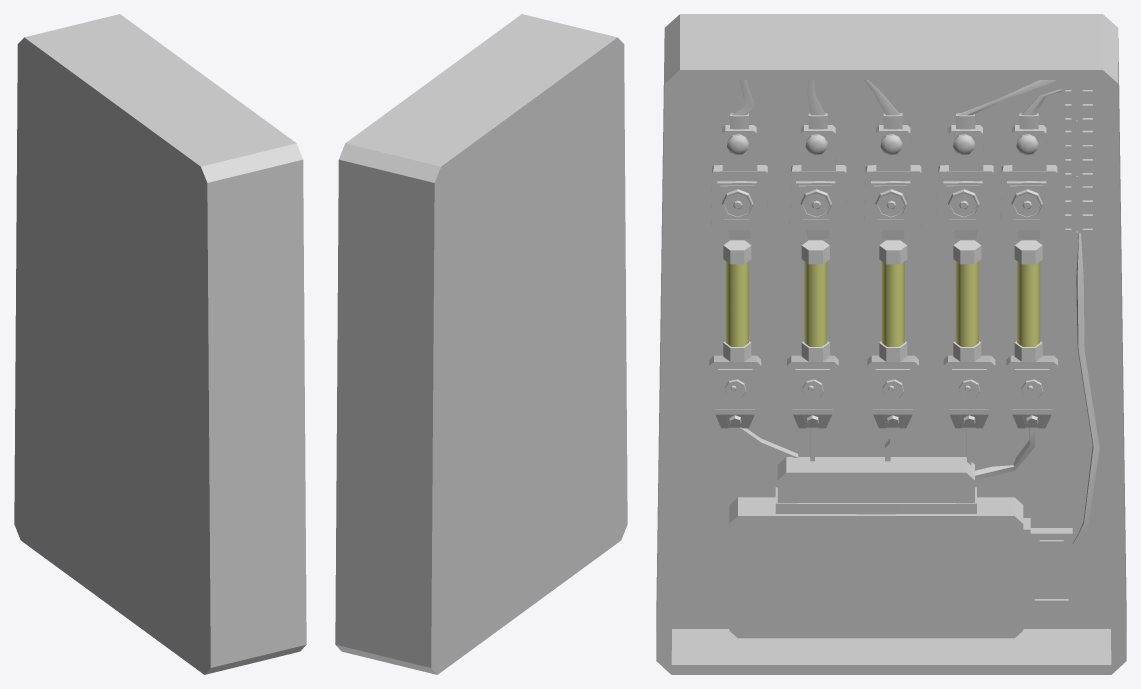
The model's file is fuseboxblend.fbx.
3 renders of one model, left to right at view 1: azimuth 30°, elevation 25°; view 2: azimuth 150°, elevation 25°; view 3: azimuth 270°, elevation 25°, orthographic. The views are drawn at different scales.
Parts seen in each view (by area): view 1: Fusebox; view 2: Fusebox; view 3: Fusebox, fuse3, Fuse1, fuse4, fuse2, fuse5.
Part boxes in pixels (bbox=[...]): Fusebox: bbox=[14, 14, 306, 674]; Fusebox: bbox=[335, 14, 627, 674]; Fusebox: bbox=[656, 14, 1126, 674]; fuse3: bbox=[1014, 240, 1042, 361]; Fuse1: bbox=[879, 240, 907, 361]; fuse4: bbox=[801, 240, 829, 361]; fuse2: bbox=[953, 240, 981, 361]; fuse5: bbox=[723, 240, 751, 361].
Size of the model in its own units: 1.52 by 7.64 by 5.38.
